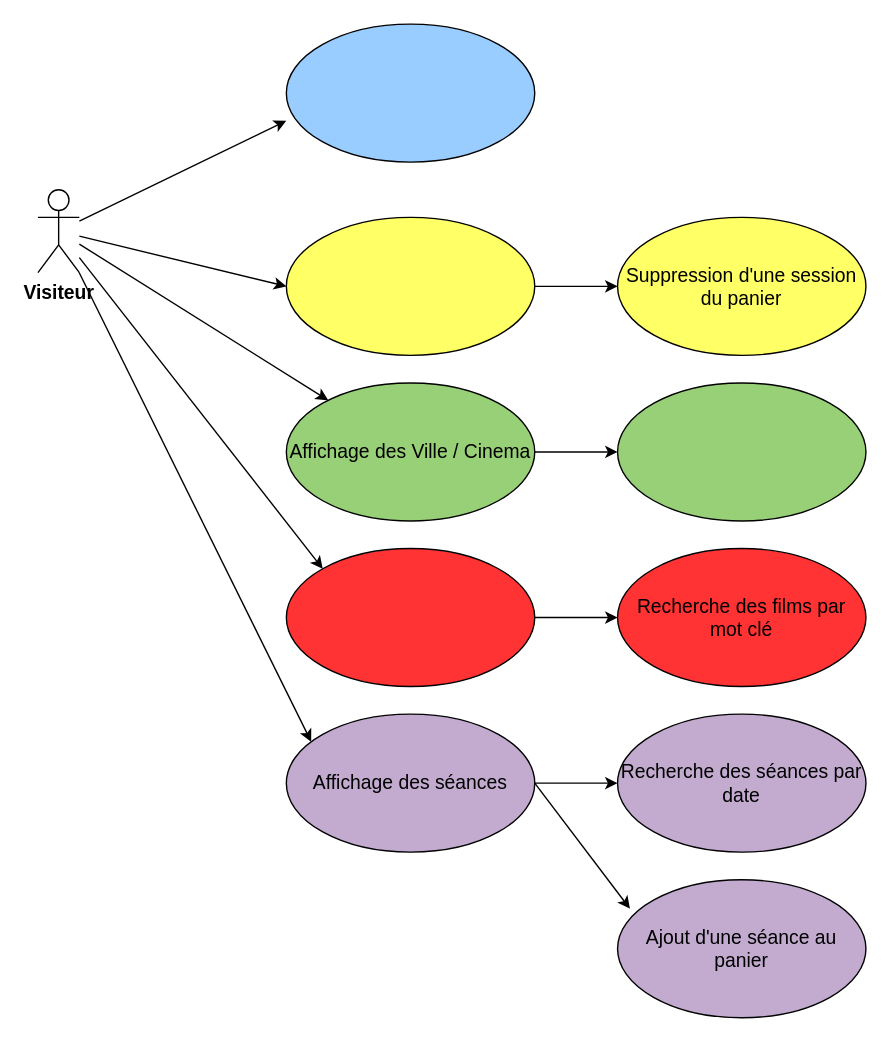
This 890x1042 diagram has some shape labels left out. Each missing label, with the centre of its shape:
"Affichage des films" goes at pixel 410 617.
"Affichage du panier" goes at pixel 410 285.
"Recherche des cinémas par mot clé" goes at pixel 741 451.
"Se Connecte r" goes at pixel 410 92.
